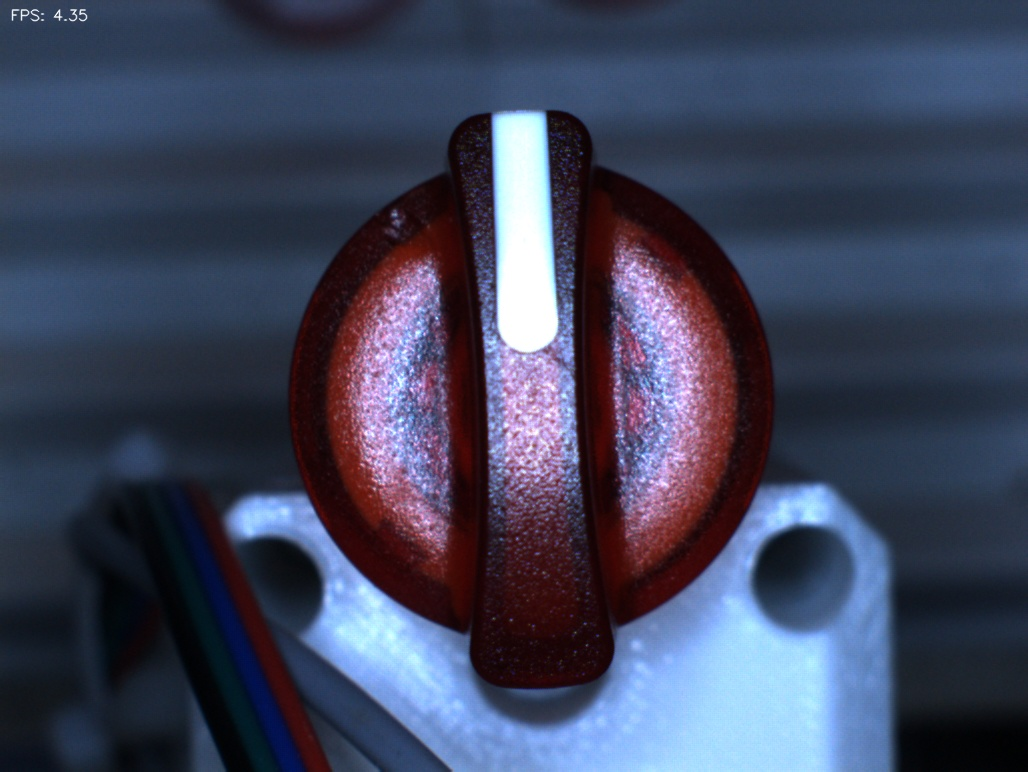Choc: (350, 185, 421, 256)
